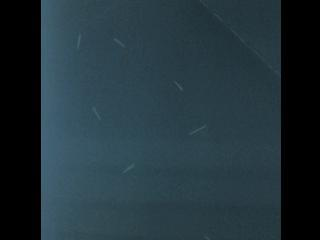crack: (199, 0, 282, 78)
scratch: (70, 31, 88, 52), (169, 75, 187, 96), (110, 34, 129, 51), (189, 123, 208, 135), (120, 160, 136, 174), (91, 106, 102, 121), (201, 230, 214, 240)
